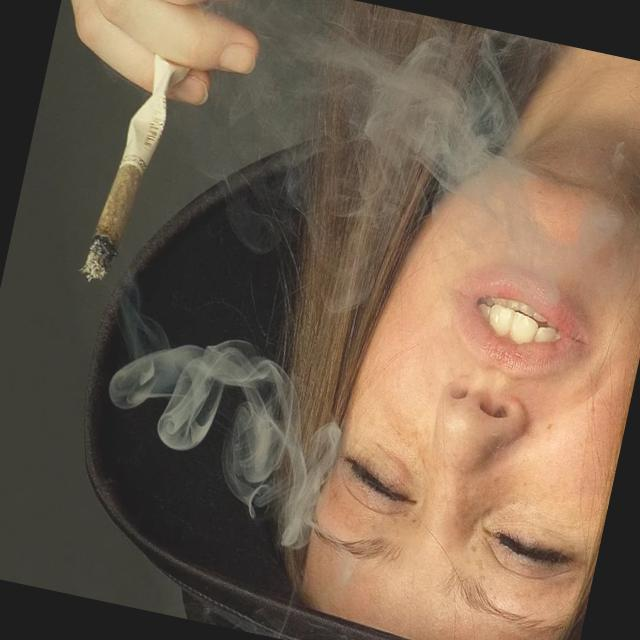smoke: (76, 42, 200, 296)
